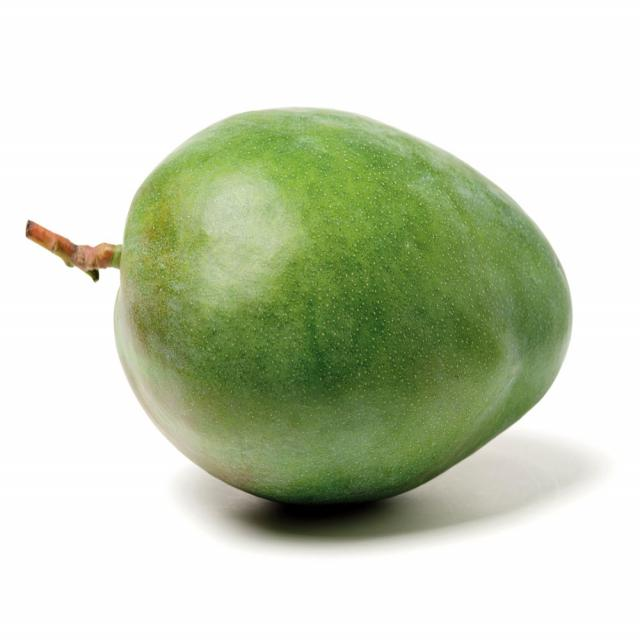raw-image: (84, 89, 578, 518)
